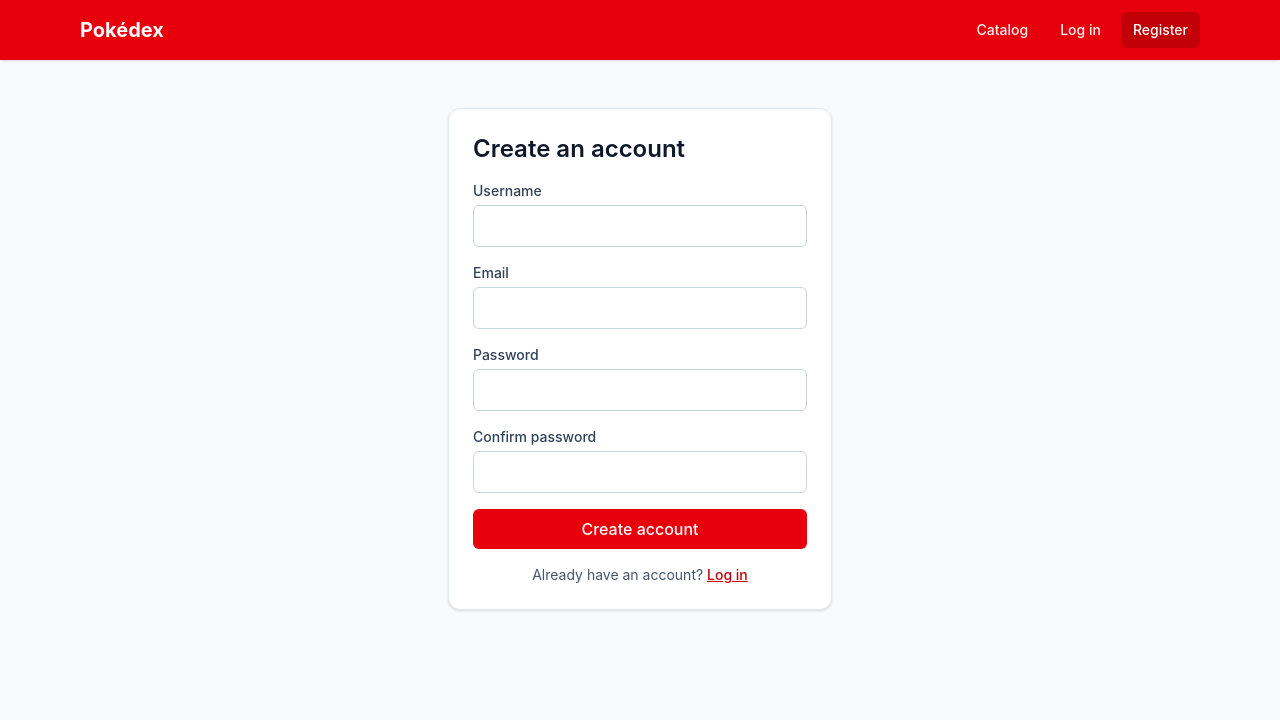
RegisterPage › validates the form before sending it
In the field labelled "Username": (640, 226) [473,205,807,247], type "a!"
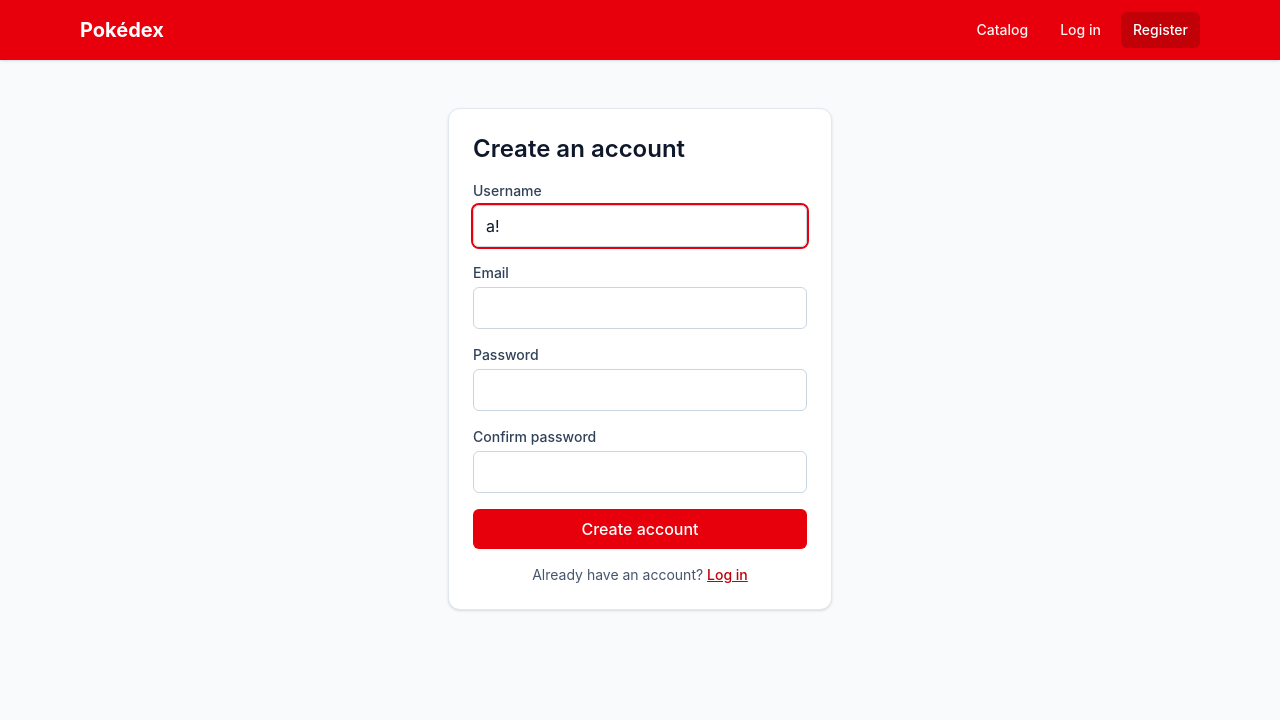
In the field labelled "Email": (640, 308) [473,287,807,329], type "not-an-email"
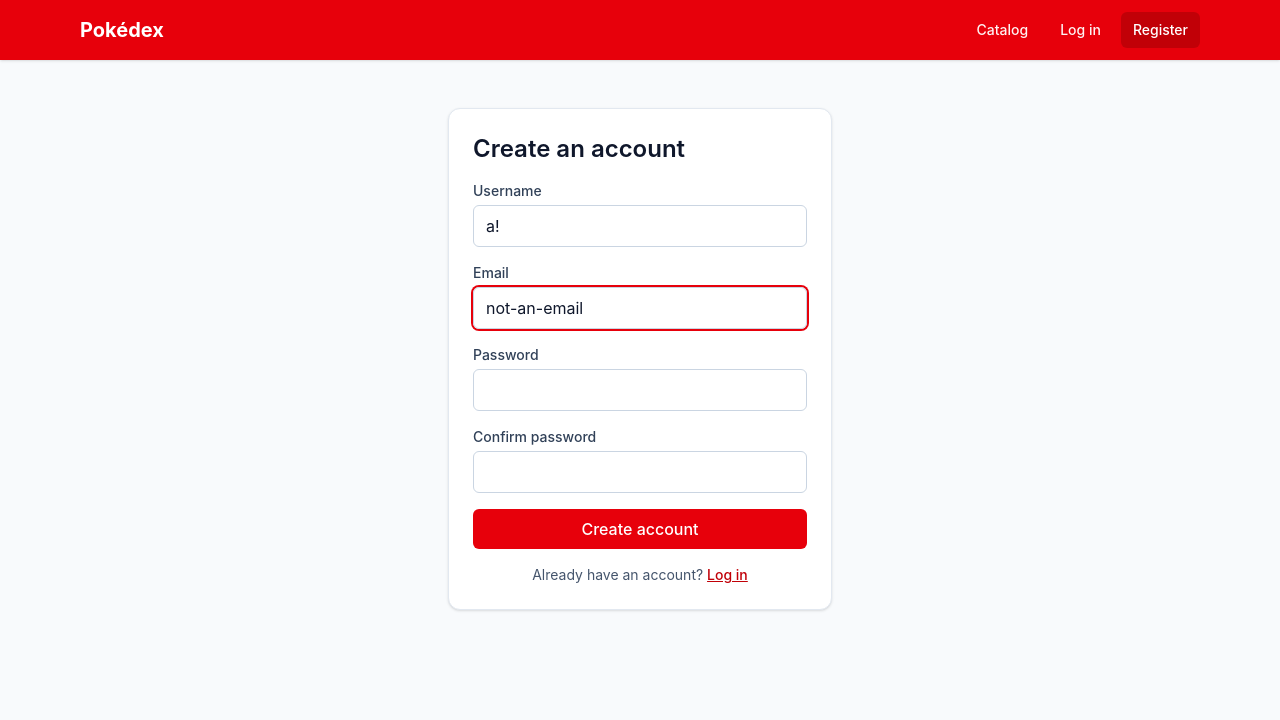
In the password field labelled "Password": (640, 390) [473,369,807,411], type "short"
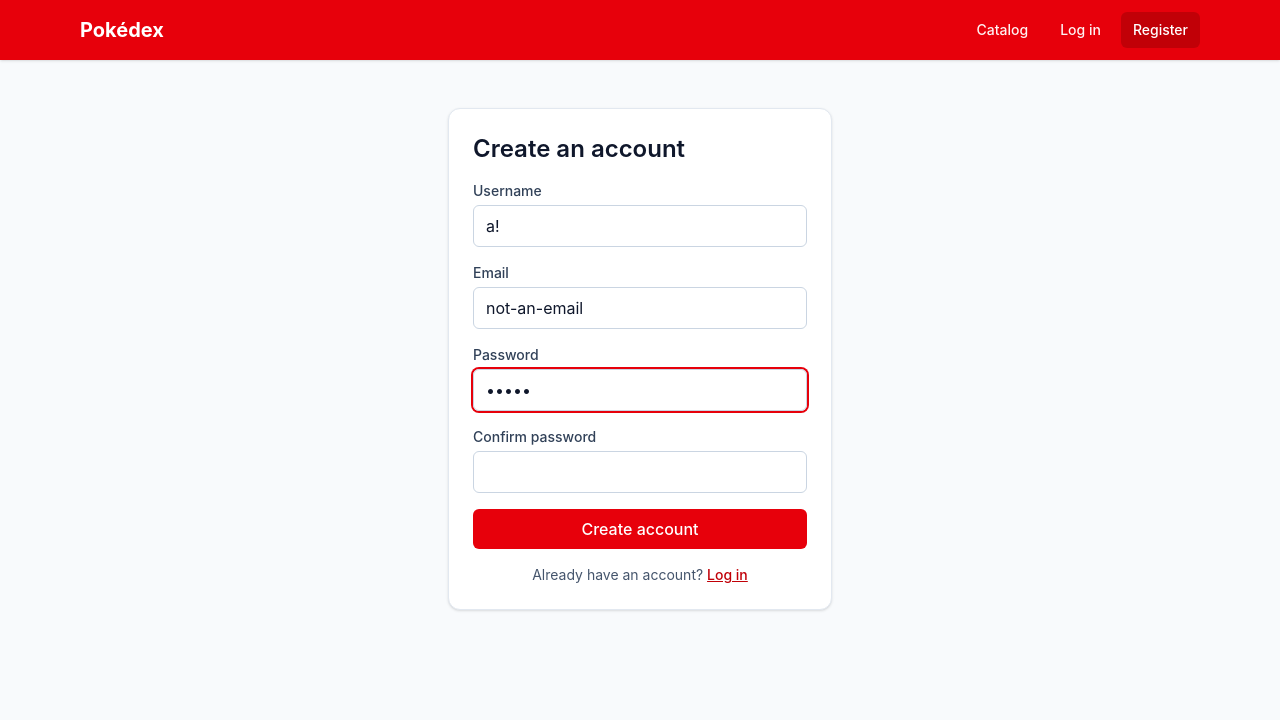
In the password field labelled "Confirm password": (640, 472) [473,451,807,493], type "other"
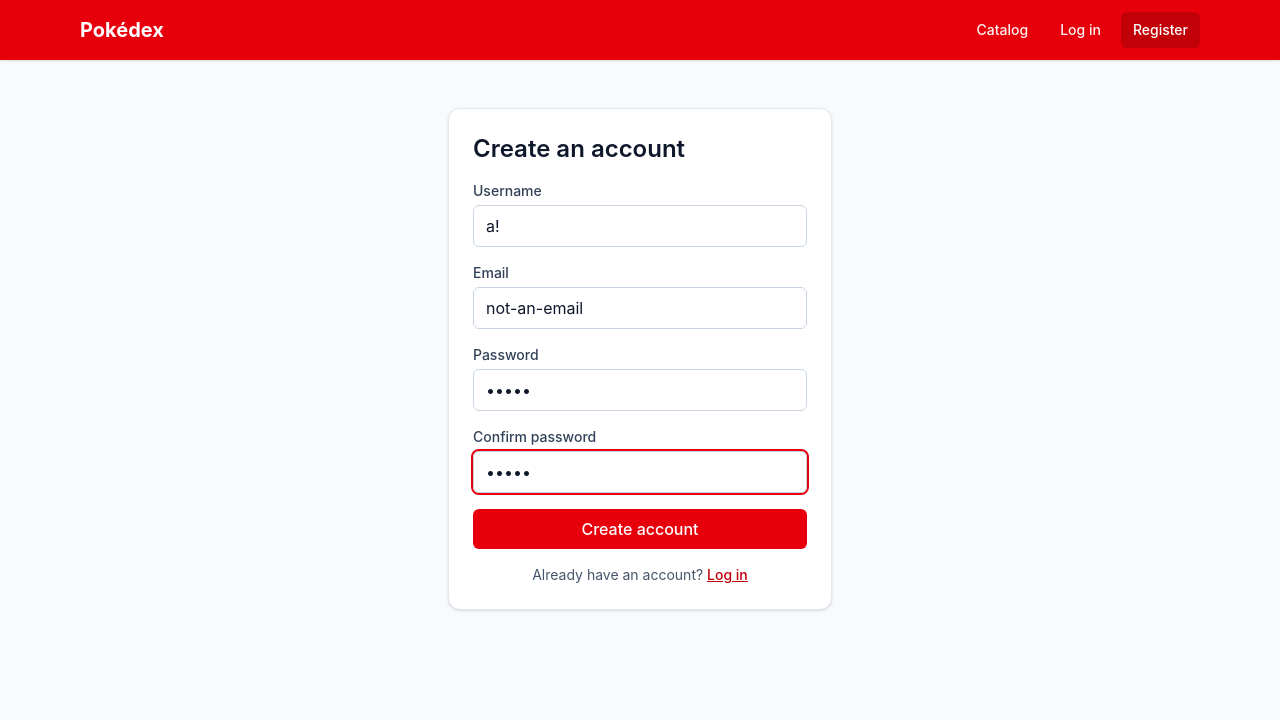
Click the button "Create account": (640, 529) [473,509,807,549]
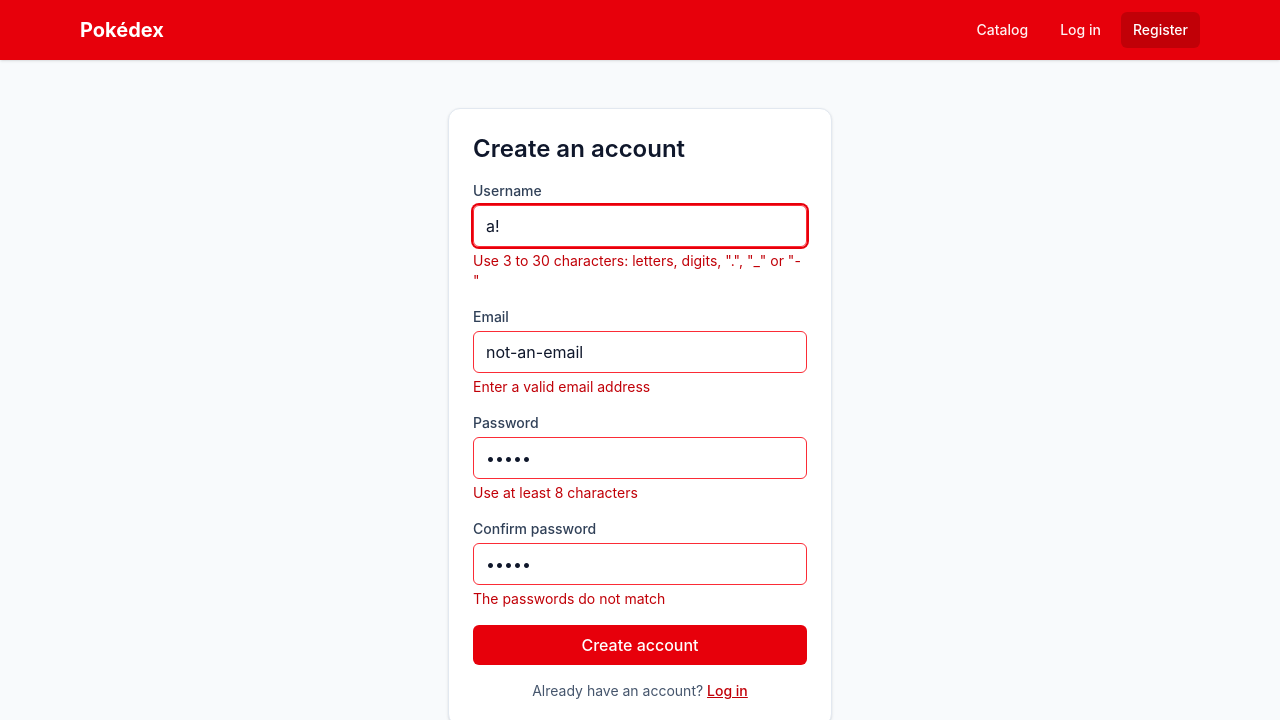
Check: the text "Use 3 to 30 characters: letters, digits, \".\", \"_\" or \"-\"" is shown, box [473,251,807,291]
Check: the message "Enter a valid email address" is shown, box [473,378,650,395]
Check: the message "Use at least 8 characters" is shown, box [473,484,638,501]
